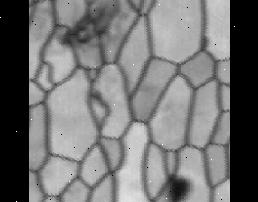good_void: (57, 0, 121, 48), (166, 172, 193, 202)
